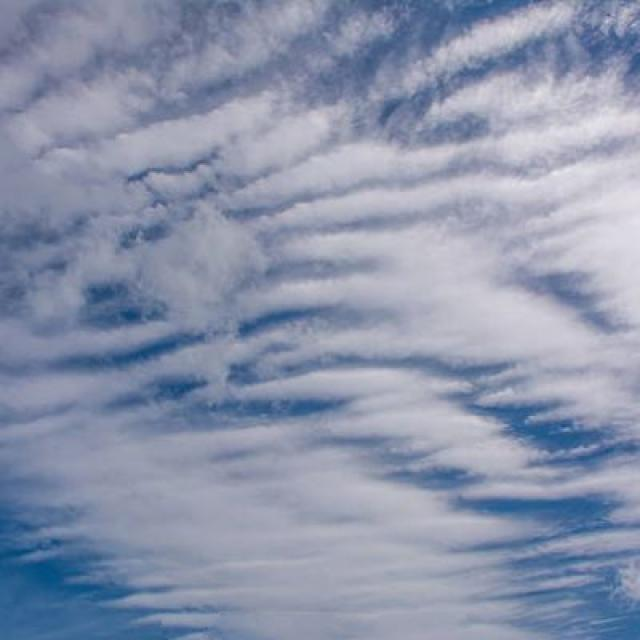Cc: (1, 54, 640, 531)
